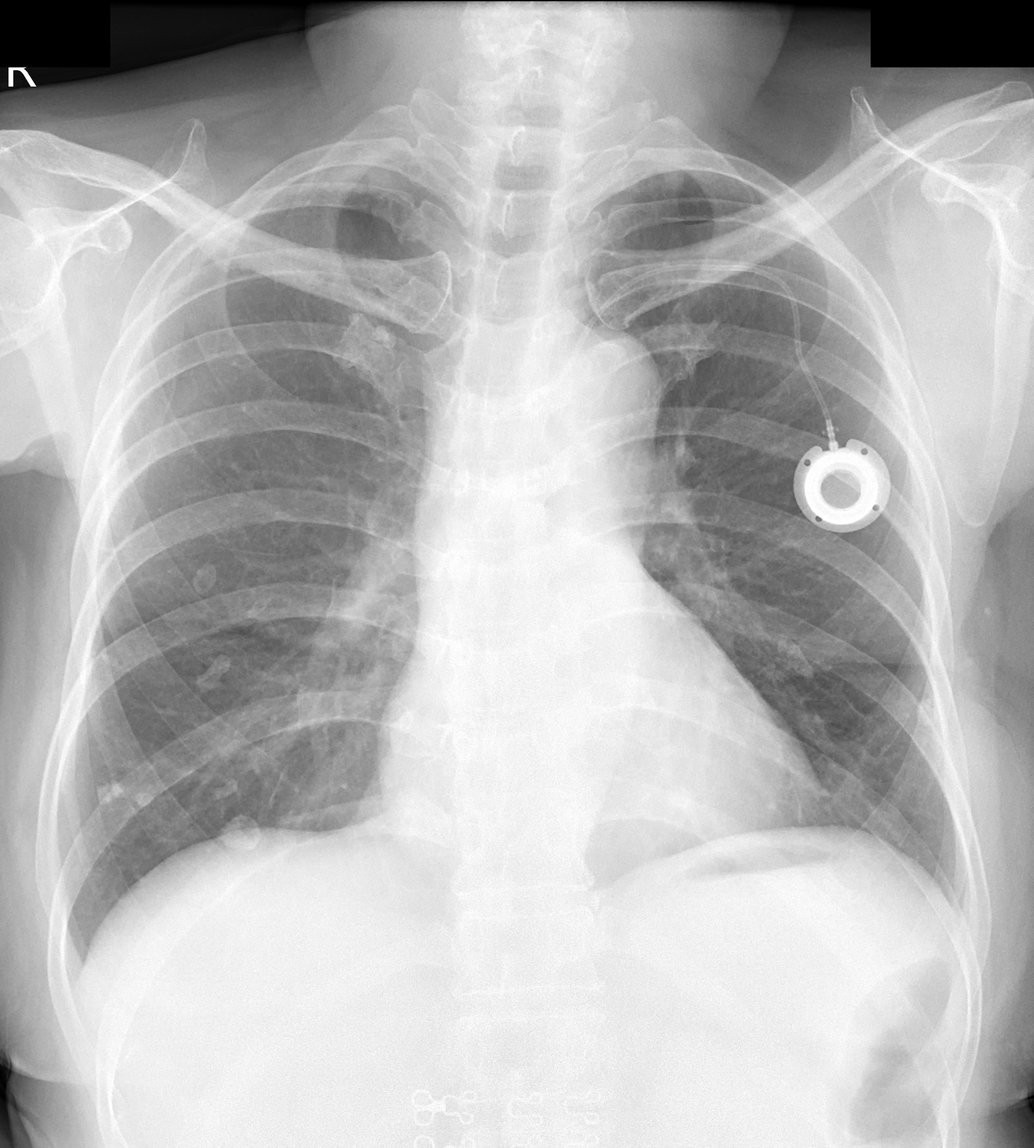Aortic enlargement: (533, 321, 660, 469)
